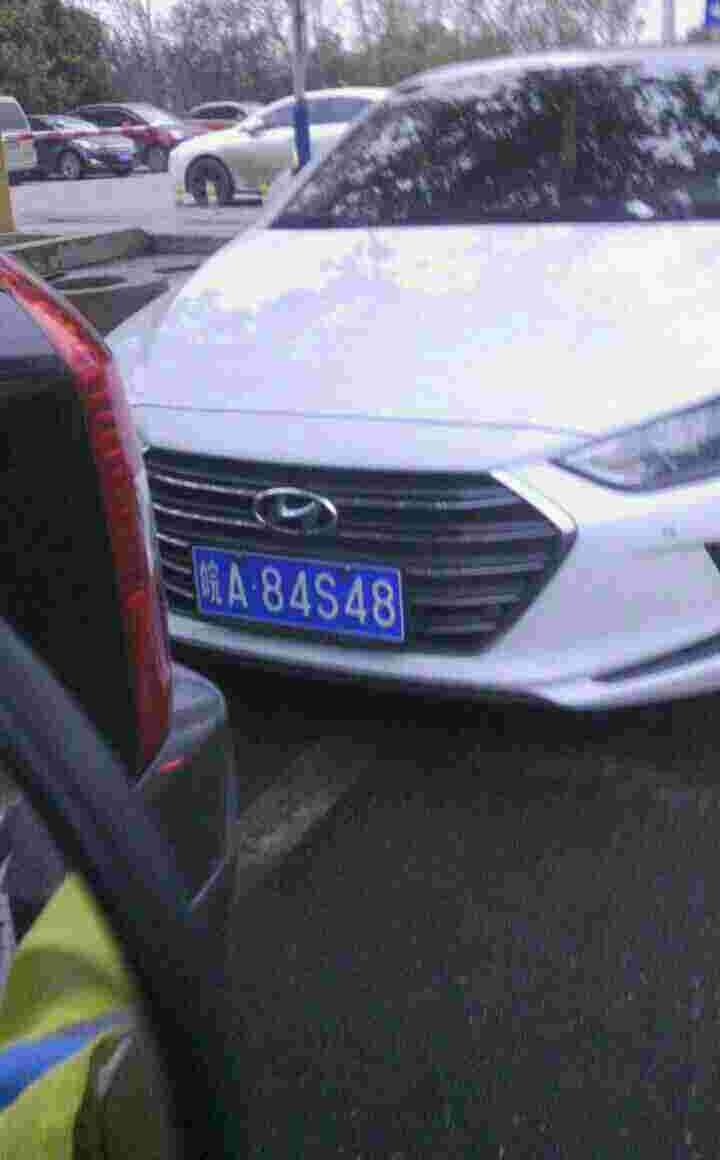license_plate: (185, 546, 417, 649)
